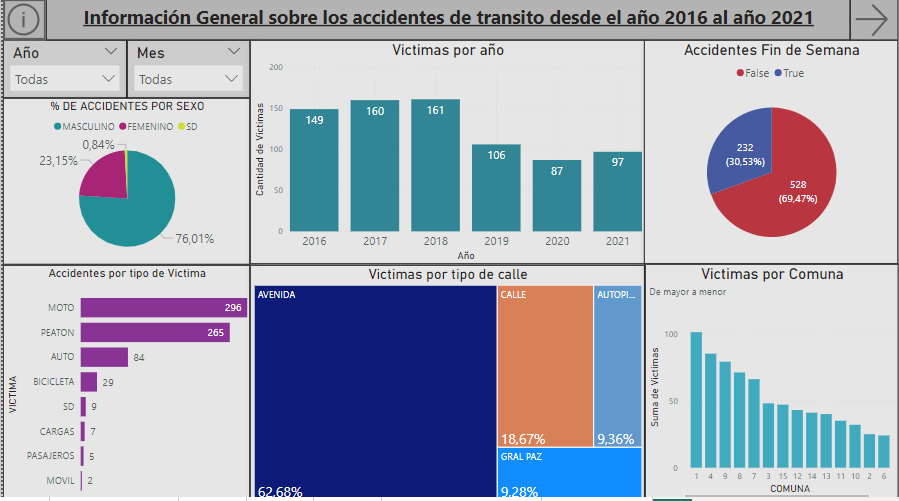

What the dashboard file says about the page in this screenshot:
{"tool":"powerbi","page":{"name":"Datos Generales","canvas":[1280,720],"ordinal":1},"visuals":[{"type":"textbox","box":[61.4,0,1148.6,58.6],"z":0},{"type":"slicer","fields":{"Values":["Calendario.Año"]},"box":[0,59.1,177.2,82.7],"z":1000},{"type":"slicer","fields":{"Values":["Calendario.Mes"]},"box":[177.2,59.1,175.7,82.7],"z":2000},{"type":"pieChart","title":"% DE ACCIDENTES POR SEXO","fields":{"Y":["CountNonNull(Victimas.SEXO)"],"Category":["Victimas.SEXO"]},"box":[0,141.7,352.8,237.7],"z":3000},{"type":"barChart","title":"Accidentes por tipo de Victima","fields":{"Category":["Victimas.VICTIMA"],"Y":["Count(Victimas.ID_hecho)"]},"box":[0,379.4,352.8,341],"z":4000},{"type":"columnChart","title":"Victimas por año","fields":{"Category":["Calendario.Fechas.Variación.Jerarquía de fechas.Año"],"Y":["Sum(Accidentes y victimas.N_VICTIMAS)"]},"box":[352.8,59.1,564,320.4],"z":5000},{"type":"treemap","title":"Victimas por tipo de calle","fields":{"Values":["Sum(Accidentes.Porcentaje)"],"Group":["Accidentes.TIPO_DE_CALLE"]},"box":[352.8,379.4,564,341],"z":6000},{"type":"pieChart","title":"Accidentes Fin de Semana","fields":{"Y":["Sum(Accidentes y victimas.N_VICTIMAS)"],"Category":["Accidentes.ES_FIN_DE_SEMANA"]},"box":[916,59,363,320],"z":7000},{"type":"columnChart","title":"Victimas por Comuna","fields":{"Category":["Accidentes y victimas.COMUNA"],"Y":["Sum(Accidentes y victimas.N_VICTIMAS)"]},"box":[917,379,362,341],"z":8000},{"type":"actionButton","box":[0,0,61.4,58.6],"z":9000},{"type":"actionButton","box":[1210,0,68.6,58.6],"z":10000}]}

Visuals, with their boxes in screenshot pixels (x1, y1, x2, y2), scaled from the page's 1280x720 canvas onto the 899x501 screenshot:
textbox: select_region(43, 0, 850, 41)
slicer - Calendario.Año: select_region(0, 41, 124, 99)
slicer - Calendario.Mes: select_region(124, 41, 248, 99)
"% DE ACCIDENTES POR SEXO" pieChart: select_region(0, 99, 248, 264)
"Accidentes por tipo de Victima" barChart: select_region(0, 264, 248, 500)
"Victimas por año" columnChart: select_region(248, 41, 644, 264)
"Victimas por tipo de calle" treemap: select_region(248, 264, 644, 500)
"Accidentes Fin de Semana" pieChart: select_region(643, 41, 898, 264)
"Victimas por Comuna" columnChart: select_region(644, 264, 898, 500)
actionButton: select_region(0, 0, 43, 41)
actionButton: select_region(850, 0, 898, 41)
